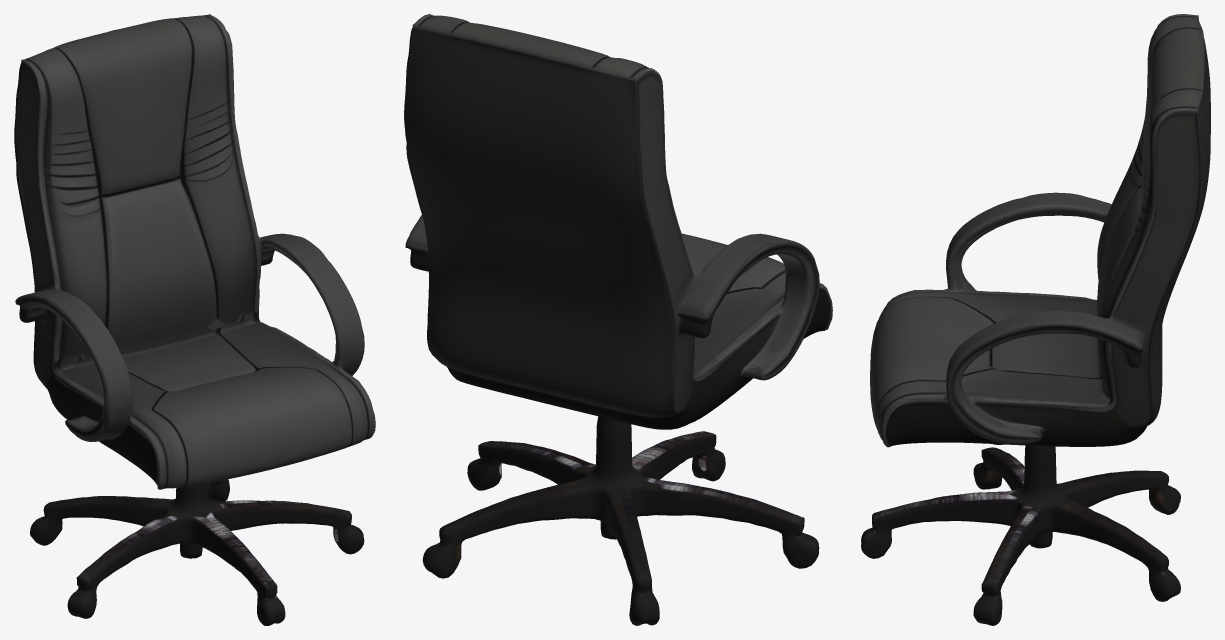
File: 3Dimage1_atlas.glb
3 views of the same model, side by side, from view 1: azimuth 30°, elevation 25°; view 2: azimuth 150°, elevation 25°; view 3: azimuth 270°, elevation 25° (orthographic). The views are drawn at different scales.
Visible parts, largest first — view 1: Object_2; view 2: Object_2; view 3: Object_2.
Boxes of the visible parts, box(x1,y1,x2,y2) form: Object_2: box(14, 14, 375, 625); Object_2: box(404, 14, 832, 625); Object_2: box(861, 14, 1210, 625).
Bounding box in the file's own units: 1.22 × 1.91 × 1.21.
1 material, 1 textured.
